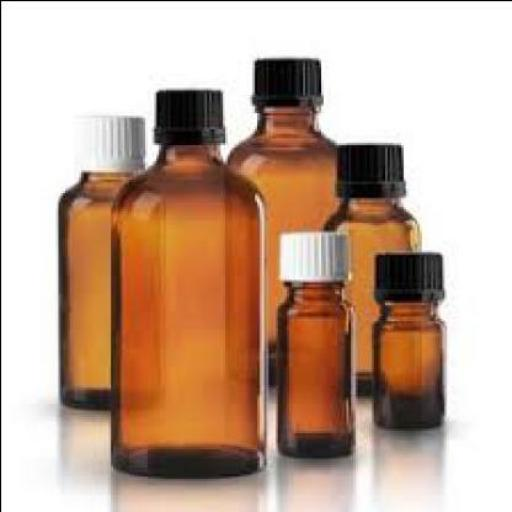glass: (108, 142, 265, 478), (226, 103, 343, 384), (59, 172, 165, 409), (327, 194, 420, 393), (279, 281, 356, 455), (372, 297, 449, 428)
plastic: (70, 109, 147, 170), (152, 85, 226, 141), (251, 55, 327, 107), (278, 228, 355, 279), (338, 139, 407, 195), (377, 252, 446, 300)
